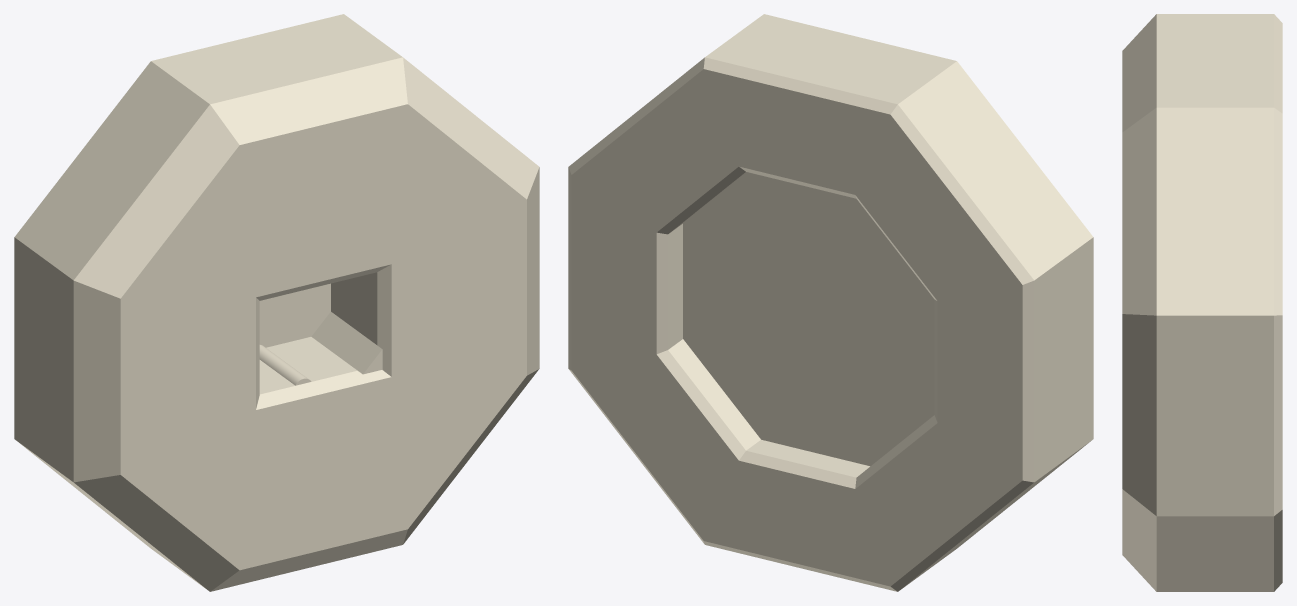
Rendered from base@ivory.glb.
3 views of the same model, side by side, from view 1: azimuth 30°, elevation 25°; view 2: azimuth 150°, elevation 25°; view 3: azimuth 270°, elevation 25° (orthographic).
Parts seen in each view (by area): view 1: geometry_0; view 2: geometry_0; view 3: geometry_0.
Part boxes in pixels (<box>): geometry_0: <box>14,14,539,591</box>; geometry_0: <box>568,14,1093,591</box>; geometry_0: <box>1122,14,1282,591</box>.
Bounding box in the file's own units: 25 × 25 × 7.5.
